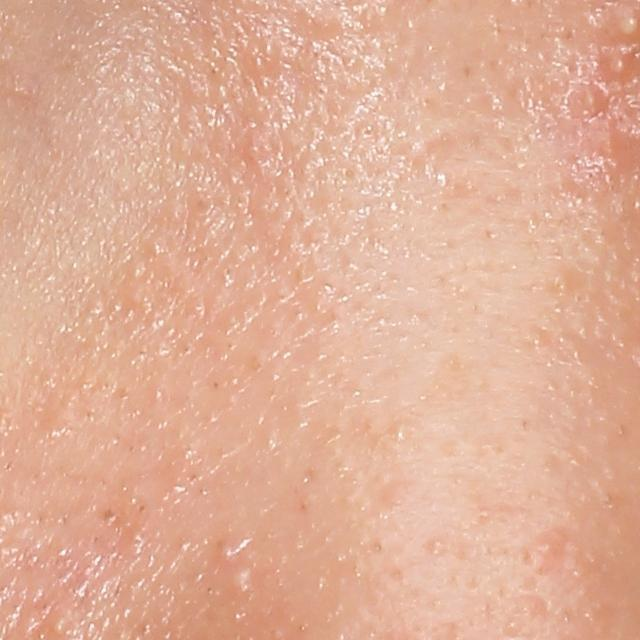comedo: (46, 613, 73, 638), (217, 538, 238, 562)
